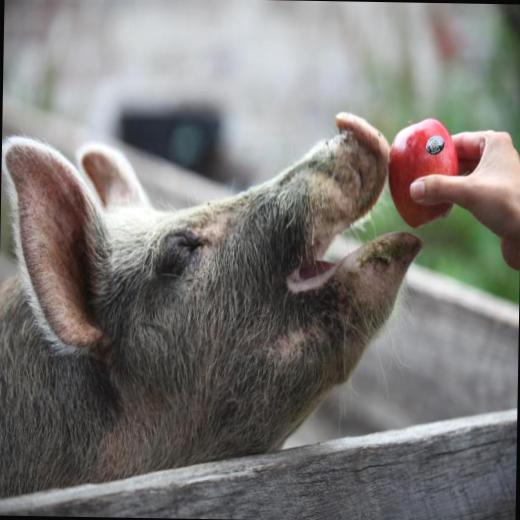Apple: (388, 119, 462, 230)
